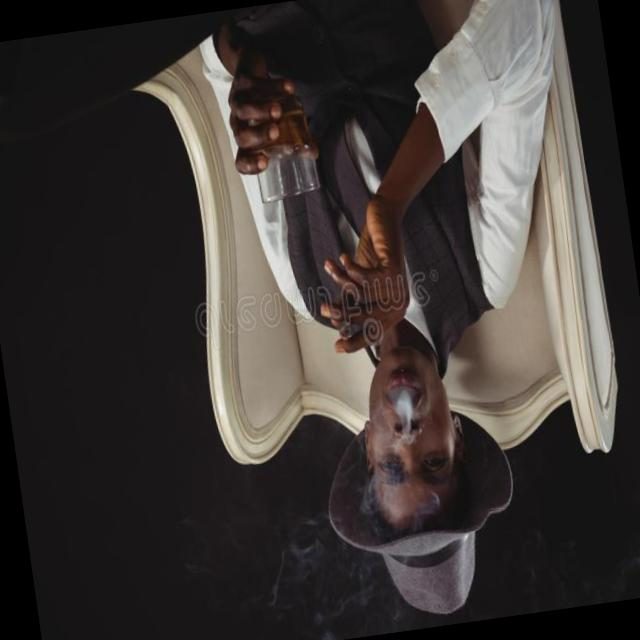cigarette: (324, 301, 387, 366)
